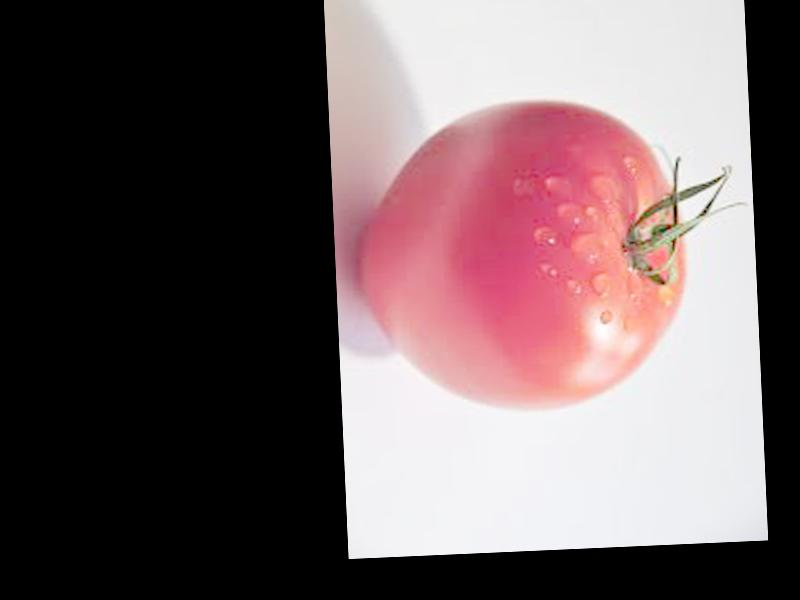Tomato: (353, 96, 688, 418)
